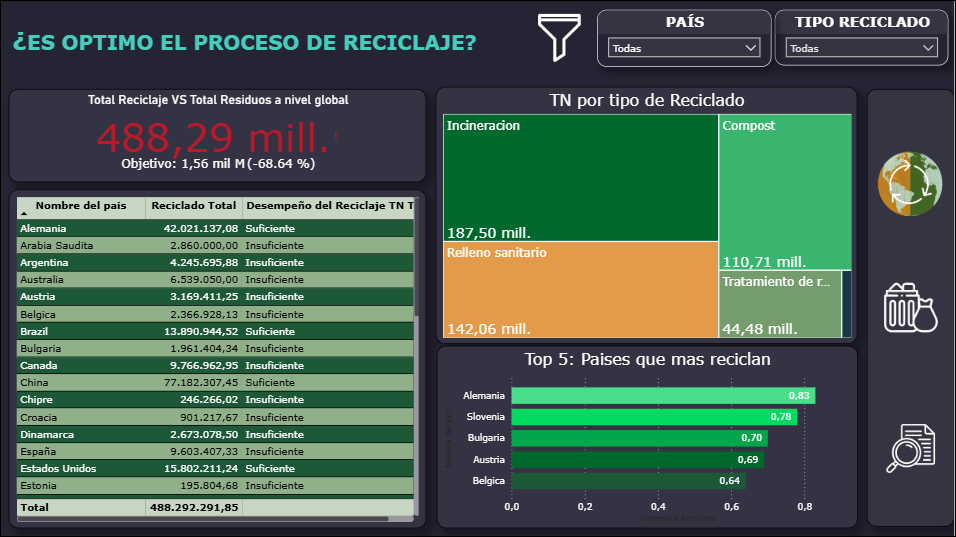

The page's visual inventory and layout, read from the dashboard file:
{"tool":"powerbi","page":{"name":"RECICLAJE","canvas":[1280,720],"ordinal":2},"visuals":[{"type":"kpi","title":"Total Reciclaje VS Total Residuos  a nivel global","fields":{"Indicator":["Tabla Medidas.Cantidad Total Reciclaje"],"TrendLine":["Tabla Calendario.Fecha"],"Goal":["Tabla Medidas.Total Residuos"]},"box":[12.5,119.8,559.9,125.4],"z":0},{"type":"slicer","title":"TIPO RECICLADO","fields":{"Values":["RECICLAJE.Tipo de Reciclado"]},"box":[1039.6,13.6,233.2,75.1],"z":1000},{"type":"treemap","title":"TN por tipo de Reciclado","fields":{"Values":["Sum(RECICLAJE.TN por Tipo de Reciclado)"],"Details":["RECICLAJE.Tipo de Reciclado"]},"box":[585.8,118.3,565.3,344.6],"z":2000},{"type":"slicer","title":"PAÍS ","fields":{"Values":["Tabla Puente.Nombre del pais "]},"box":[802,14.1,233.4,76.4],"z":3000},{"type":"barChart","title":"Top 5: Paises que mas reciclan","fields":{"Category":["Tabla Puente.Nombre del pais "],"Y":["Tabla Medidas.Porcentaje Reciclado"]},"box":[586.9,464.1,564.2,244.5],"z":4000},{"type":"tableEx","fields":{"Values":["Tabla Puente.Nombre del pais ","Sum(Tabla Total TN Recicladas.Reciclado  Total)","Tabla Total TN Recicladas.Desempeño del Reciclaje TN Total"]},"box":[12.5,254.9,559.9,454.1],"z":5000},{"type":"image","box":[714.5,13.9,73.8,75.2],"z":6000},{"type":"textbox","box":[12.5,15.9,662,84.2],"z":7000},{"type":"shape","box":[1162.8,120.2,117.4,587],"z":8000},{"type":"image","box":[1169.8,191,103.3,110.3],"z":9000},{"type":"image","box":[1181.1,564.4,80.6,75],"z":10000},{"type":"image","box":[1178.3,373.4,87.7,82],"z":11000}]}

Visuals, with their boxes in screenshot pixels (x1, y1, x2, y2), scaled from the page's 1280x720 canvas onto the 956x537 screenshot:
"Total Reciclaje VS Total Residuos  a nivel global" kpi: [x1=9, y1=89, x2=428, y2=183]
"TIPO RECICLADO" slicer: [x1=776, y1=10, x2=951, y2=66]
"TN por tipo de Reciclado" treemap: [x1=438, y1=88, x2=860, y2=345]
"PAÍS " slicer: [x1=599, y1=11, x2=773, y2=67]
"Top 5: Paises que mas reciclan" barChart: [x1=438, y1=346, x2=860, y2=528]
tableEx - Tabla Puente.Nombre del pais  x Sum(Tabla Total TN Recicladas.Reciclado  Total): [x1=9, y1=190, x2=428, y2=529]
image: [x1=534, y1=10, x2=589, y2=66]
textbox: [x1=9, y1=12, x2=504, y2=75]
shape: [x1=868, y1=90, x2=955, y2=527]
image: [x1=874, y1=142, x2=951, y2=225]
image: [x1=882, y1=421, x2=942, y2=477]
image: [x1=880, y1=278, x2=946, y2=340]
